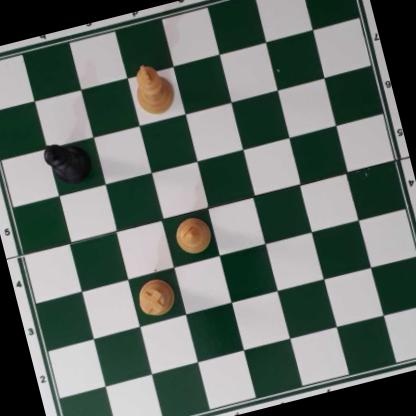black-king: (41, 135, 97, 191)
white-bishop: (171, 211, 216, 260)
white-king: (128, 59, 179, 121)
white-rook: (134, 275, 179, 320)
